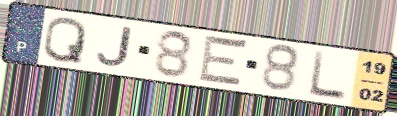8: (258, 43, 303, 95), (151, 29, 196, 80)
E: (196, 32, 251, 91)
J: (94, 25, 134, 69)
L: (306, 49, 348, 102)
Q: (40, 16, 88, 66)
